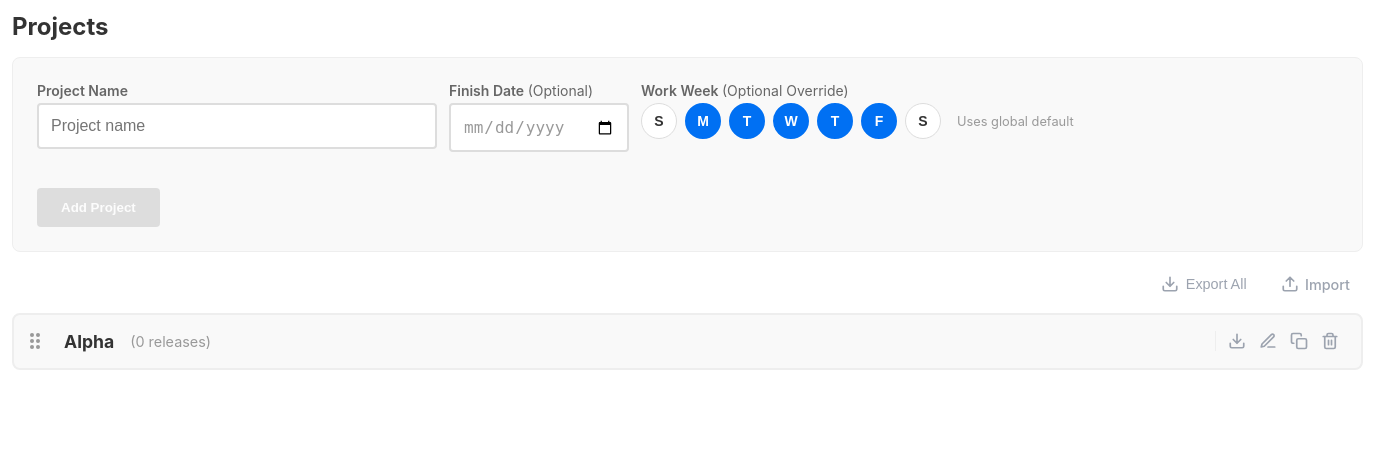
Scenario: ProjectsTab › export › clones a project when CloneIconButton is clicked (v19.0)
Click the button named "Clone project".
click(1299, 341)  # box x1=1285 y1=327 x2=1314 y2=356
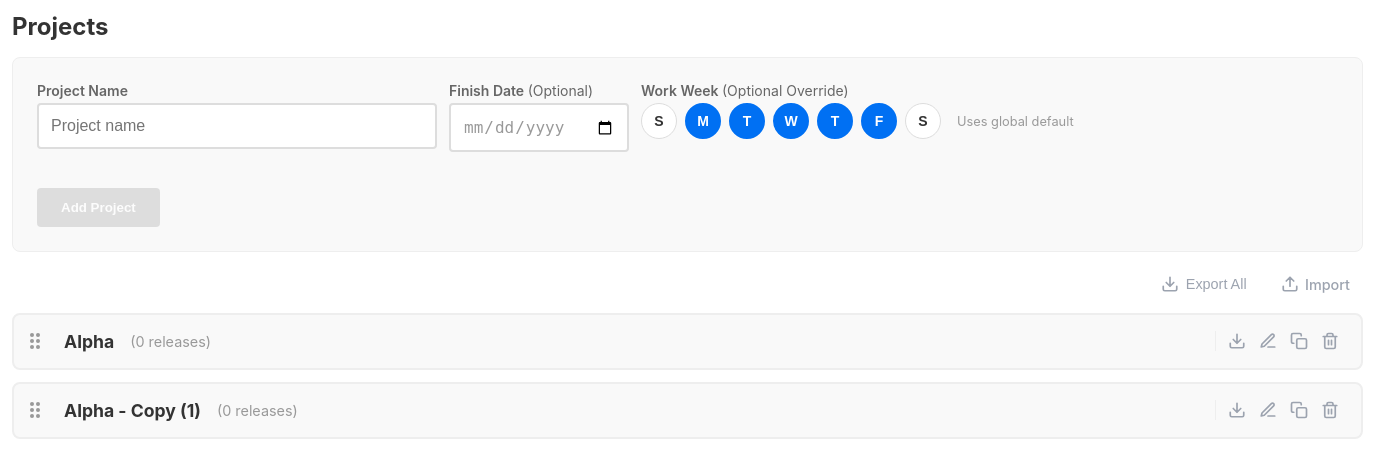
Check: the text "Alpha - Copy (1)" is shown, box x1=64 y1=400 x2=201 y2=421
